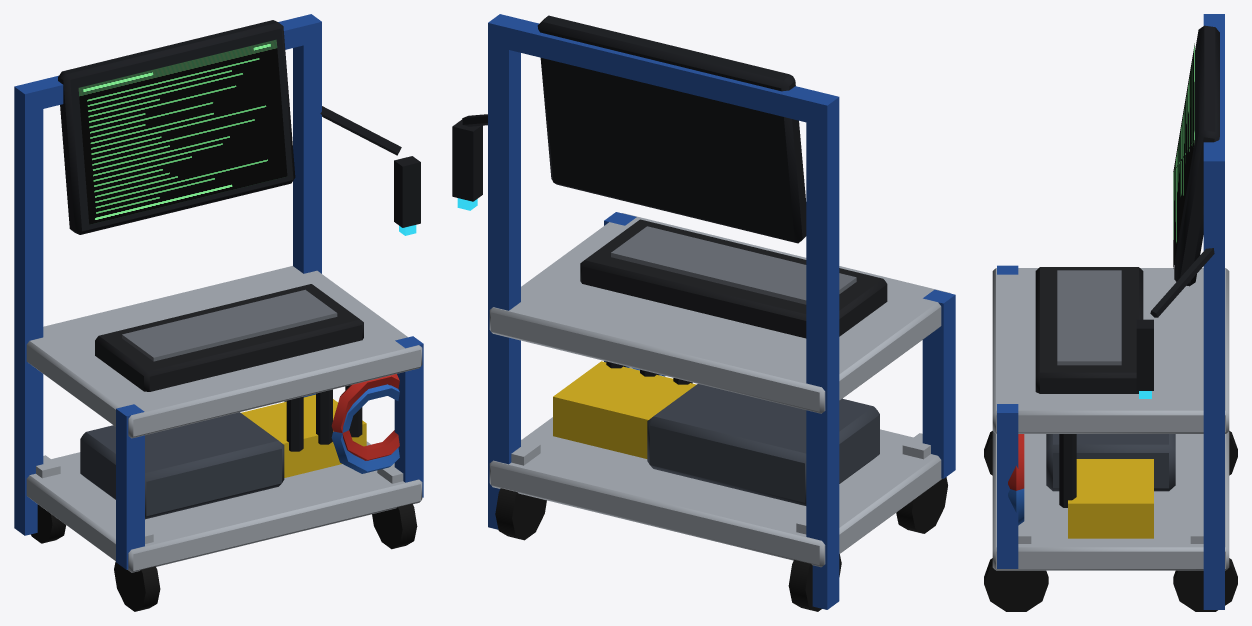
File: hangartool_diagnostics_cart.glb
3 renders of one model, left to right at view 1: azimuth 30°, elevation 25°; view 2: azimuth 150°, elevation 25°; view 3: azimuth 270°, elevation 25°, orthographic. The views are drawn at different scales.
Visible parts, largest first — view 1: hangartool_diagnostics_cart; view 2: hangartool_diagnostics_cart; view 3: hangartool_diagnostics_cart.
Boxes of the visible parts, left/top/right/bottom form: hangartool_diagnostics_cart: left=14, top=14, right=423, bottom=611; hangartool_diagnostics_cart: left=452, top=14, right=955, bottom=611; hangartool_diagnostics_cart: left=984, top=14, right=1237, bottom=611.
Bounding box in the file's own units: 0.99 × 1.2 × 0.59.
Materials: 12 (1 with a texture image).
